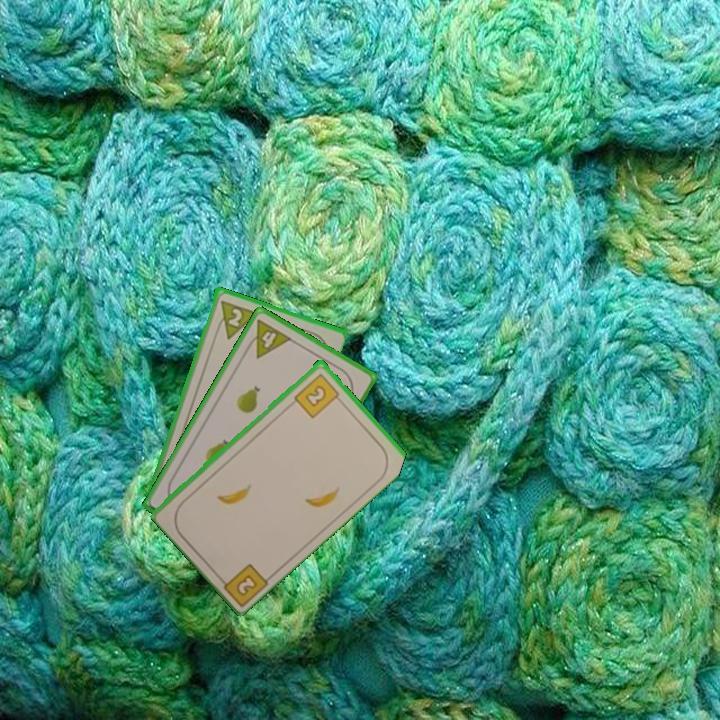2b: (290, 369, 345, 421), (214, 559, 272, 607)
2p: (224, 304, 245, 329)
4p: (241, 315, 295, 361)
